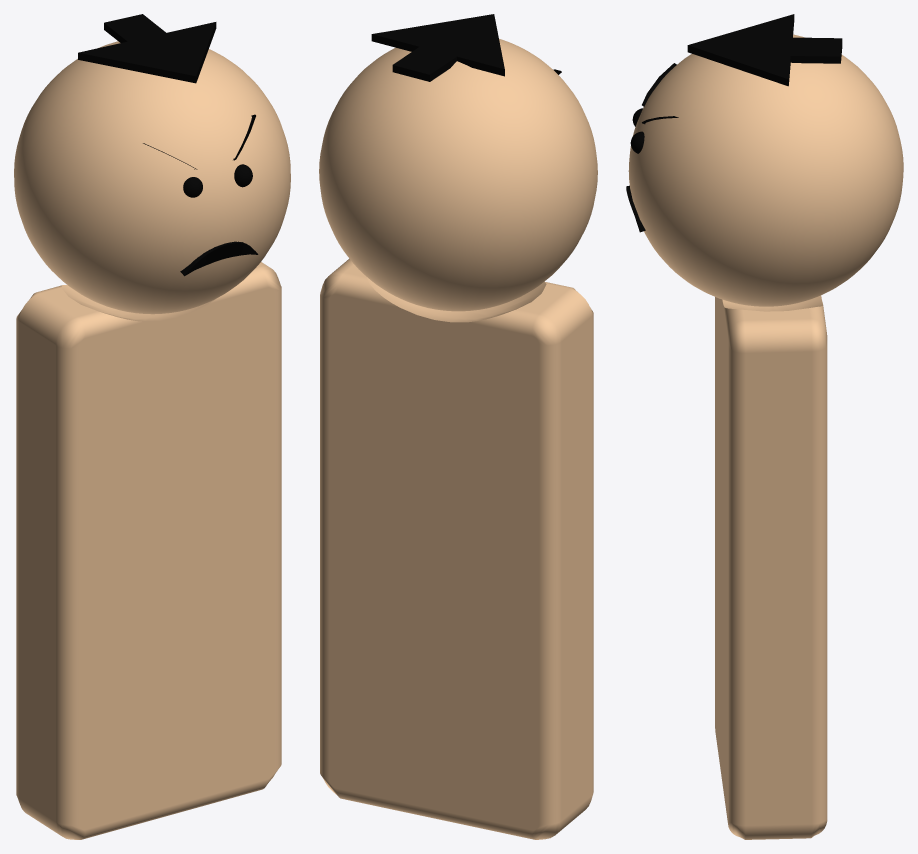
The model's file is bangry.obj.
3 renders of one model, left to right at view 1: azimuth 30°, elevation 25°; view 2: azimuth 150°, elevation 25°; view 3: azimuth 270°, elevation 25°, orthographic.
Visible parts, largest first — view 1: 1_Curve.002_Curve.003, 5.002_Curve.002_Curve.003_5.002_Curve.002_Curve.003; view 2: 1_Curve.002_Curve.003, 5.002_Curve.002_Curve.003_5.002_Curve.002_Curve.003; view 3: 1_Curve.002_Curve.003, 5.002_Curve.002_Curve.003_5.002_Curve.002_Curve.003.
Boxes of the visible parts, left/top/right/bottom form: 1_Curve.002_Curve.003: left=14, top=41, right=290, bottom=839; 5.002_Curve.002_Curve.003_5.002_Curve.002_Curve.003: left=78, top=14, right=258, bottom=276; 1_Curve.002_Curve.003: left=319, top=39, right=597, bottom=839; 5.002_Curve.002_Curve.003_5.002_Curve.002_Curve.003: left=371, top=14, right=561, bottom=81; 1_Curve.002_Curve.003: left=628, top=34, right=903, bottom=839; 5.002_Curve.002_Curve.003_5.002_Curve.002_Curve.003: left=626, top=14, right=842, bottom=232.
Size of the model in its own units: 0.1661 by 0.4993 by 0.1676.
